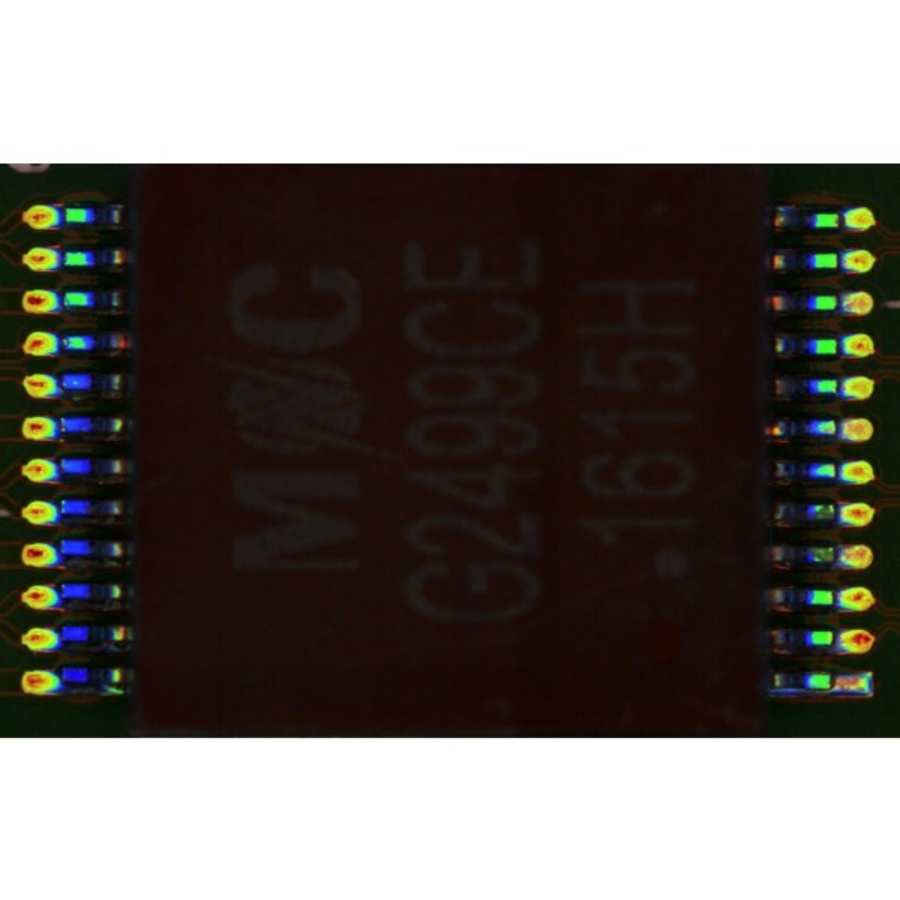Bad_podu: (819, 676, 847, 689)
